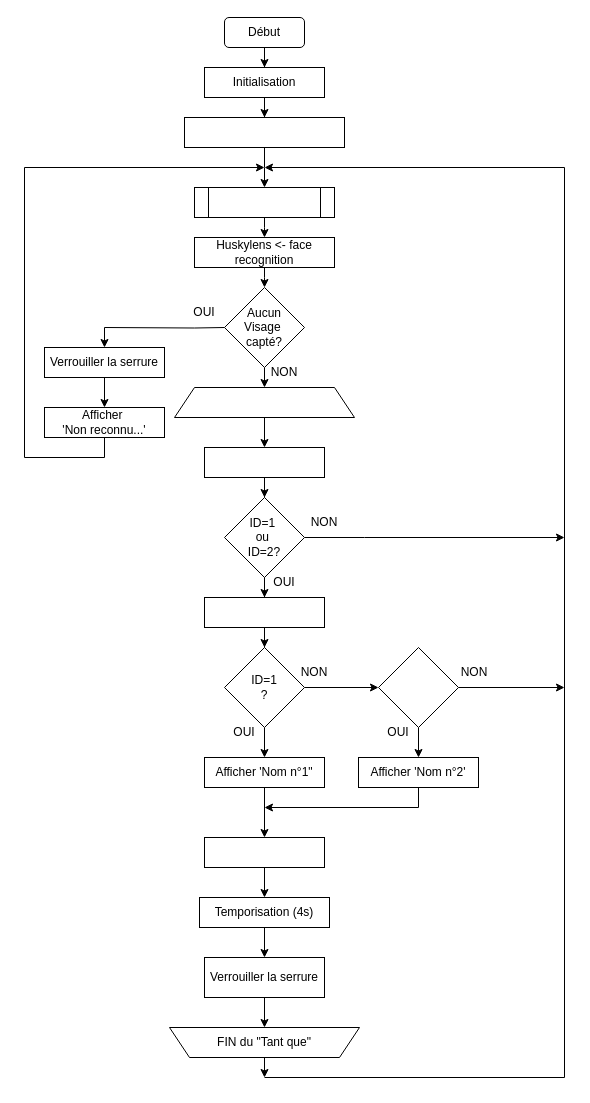
Some shapes in this 590 by 1103 pixel diagram are drawn without their labels. The shapes that lost their labels are listed below. From the top down, each one's centre as x and y in pixels, then its label:
the point at 264,132: Déclaration du protocole I2C
the point at 264,202: Gestion du niveau de charge batterie
the point at 264,402: Tant qu'un visage est capté
the point at 264,462: Lire l'identification du visage capté (ID)
the point at 264,612: Afficher 'Bonjour
the point at 418,687: ID=2 ?
the point at 264,852: Déverrouiller la serrure
